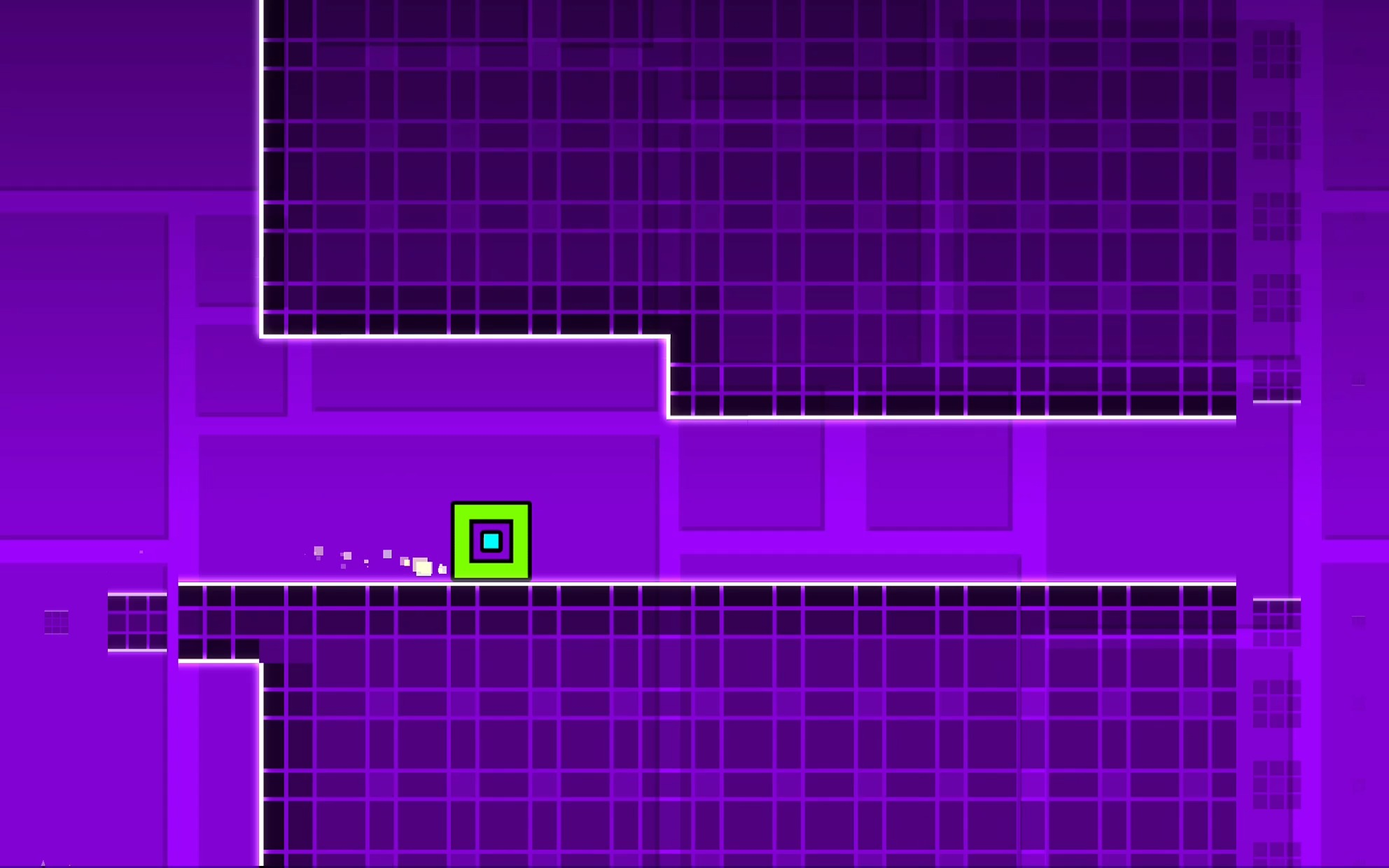Block2: (269, 0, 1249, 337), (263, 575, 1273, 850), (664, 335, 1271, 421), (104, 587, 263, 662)
Player: (453, 499, 533, 577)
